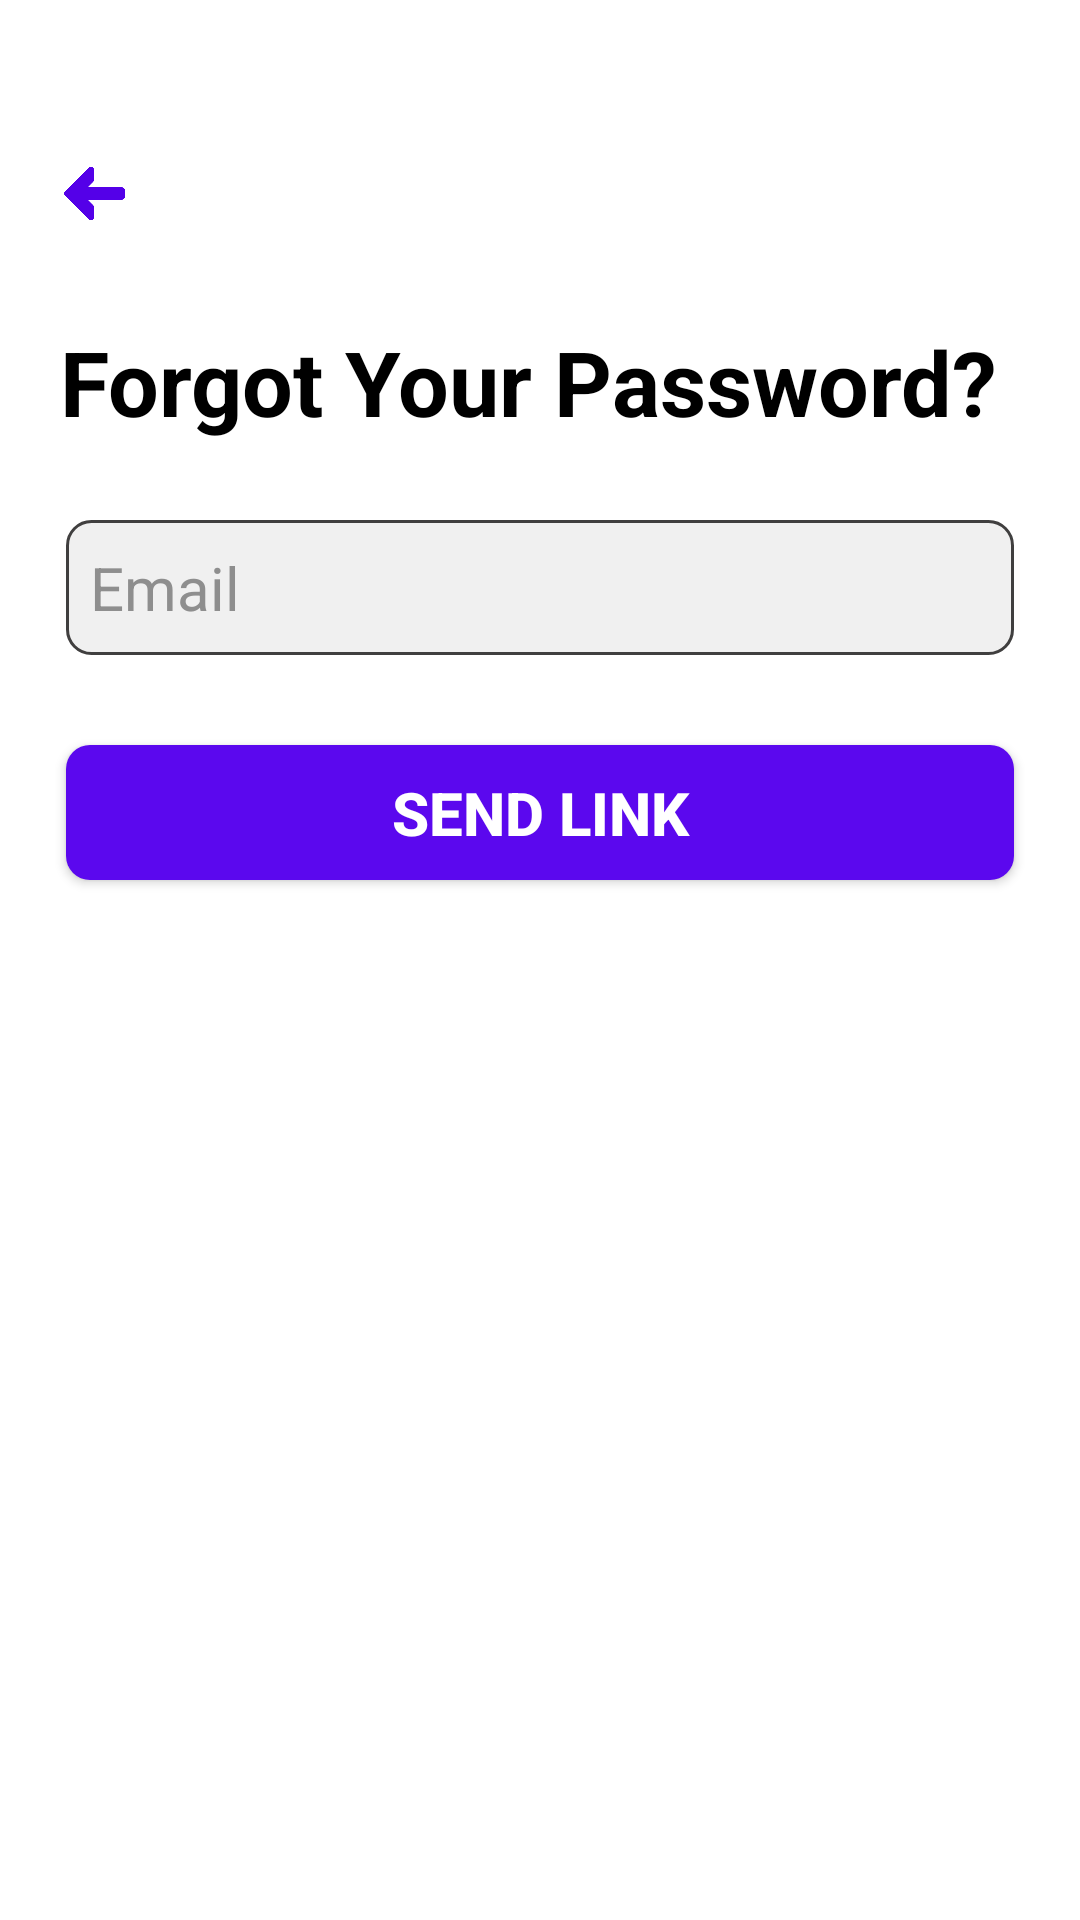

Icons on this 1080×1920 Android screen, each with its box as (x1, y1, x2, y2):
back: (64, 167, 125, 220)
